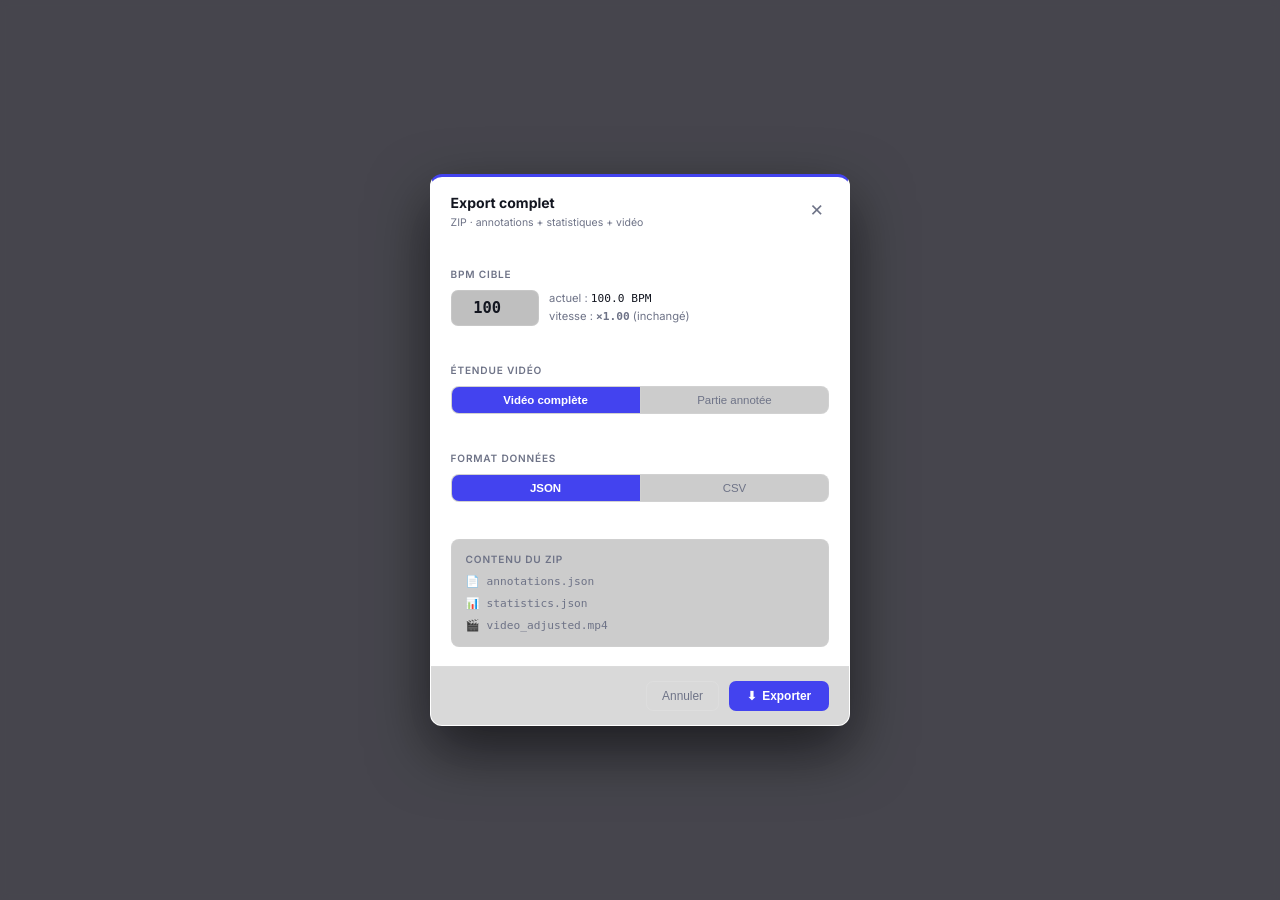
it: ExportBundleModal › affiche une erreur si le fetch échoue
Click the button "⬇ Exporter". click: (779, 696)
box: [729,681,829,711]
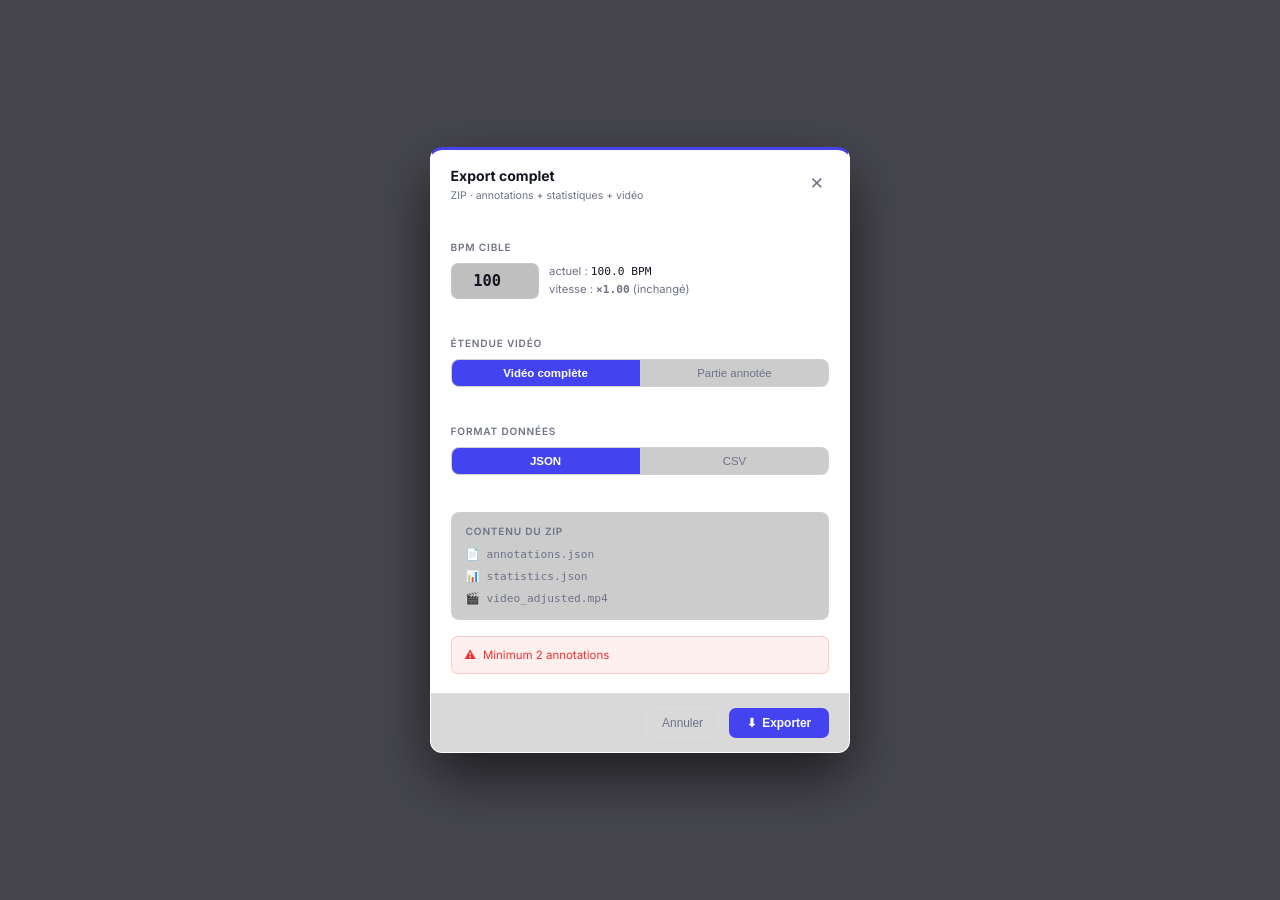
Result: the text "Minimum 2 annotations" is shown at [483,646,609,664]
